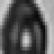correct: (0, 0, 52, 54)
